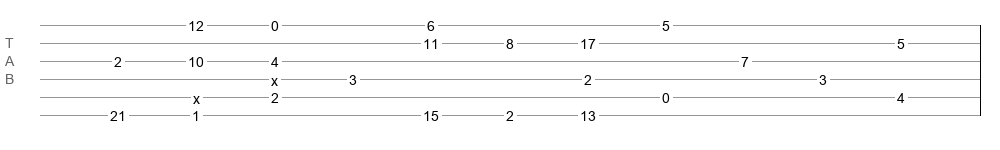0: (271, 18, 279, 28), (662, 90, 670, 100)
1: (192, 108, 200, 118)
10: (188, 54, 204, 64)
11: (423, 36, 439, 46)
12: (188, 18, 204, 28)
13: (580, 108, 596, 118)
15: (423, 108, 439, 118)
17: (580, 36, 596, 46)
2: (114, 54, 122, 64), (271, 90, 279, 100), (506, 108, 514, 118), (584, 72, 592, 82)
21: (110, 108, 126, 118)
3: (349, 72, 357, 82), (819, 72, 827, 82)
4: (271, 54, 279, 64), (897, 90, 905, 100)
5: (662, 18, 670, 28), (897, 36, 905, 46)
6: (427, 18, 435, 28)
7: (741, 54, 749, 64)
8: (506, 36, 514, 46)
x: (193, 91, 200, 99), (271, 73, 278, 81)
